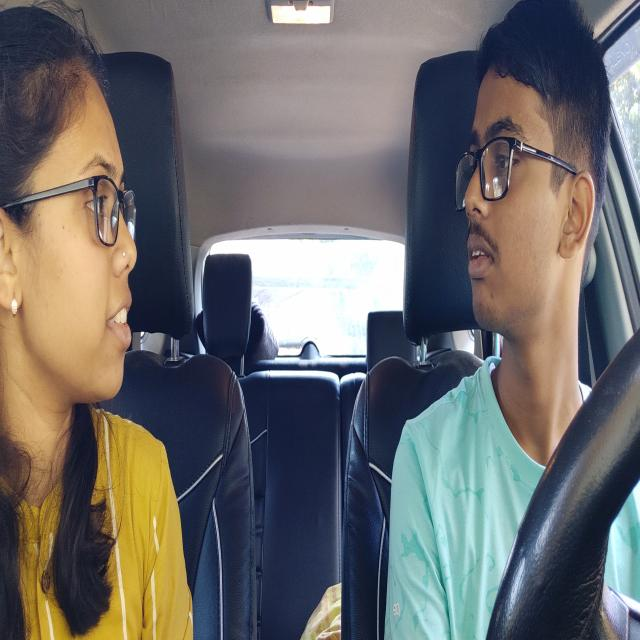LeftRight: (2, 15, 137, 418), (468, 34, 591, 308)
talking: (465, 233, 499, 282), (106, 302, 138, 347)
